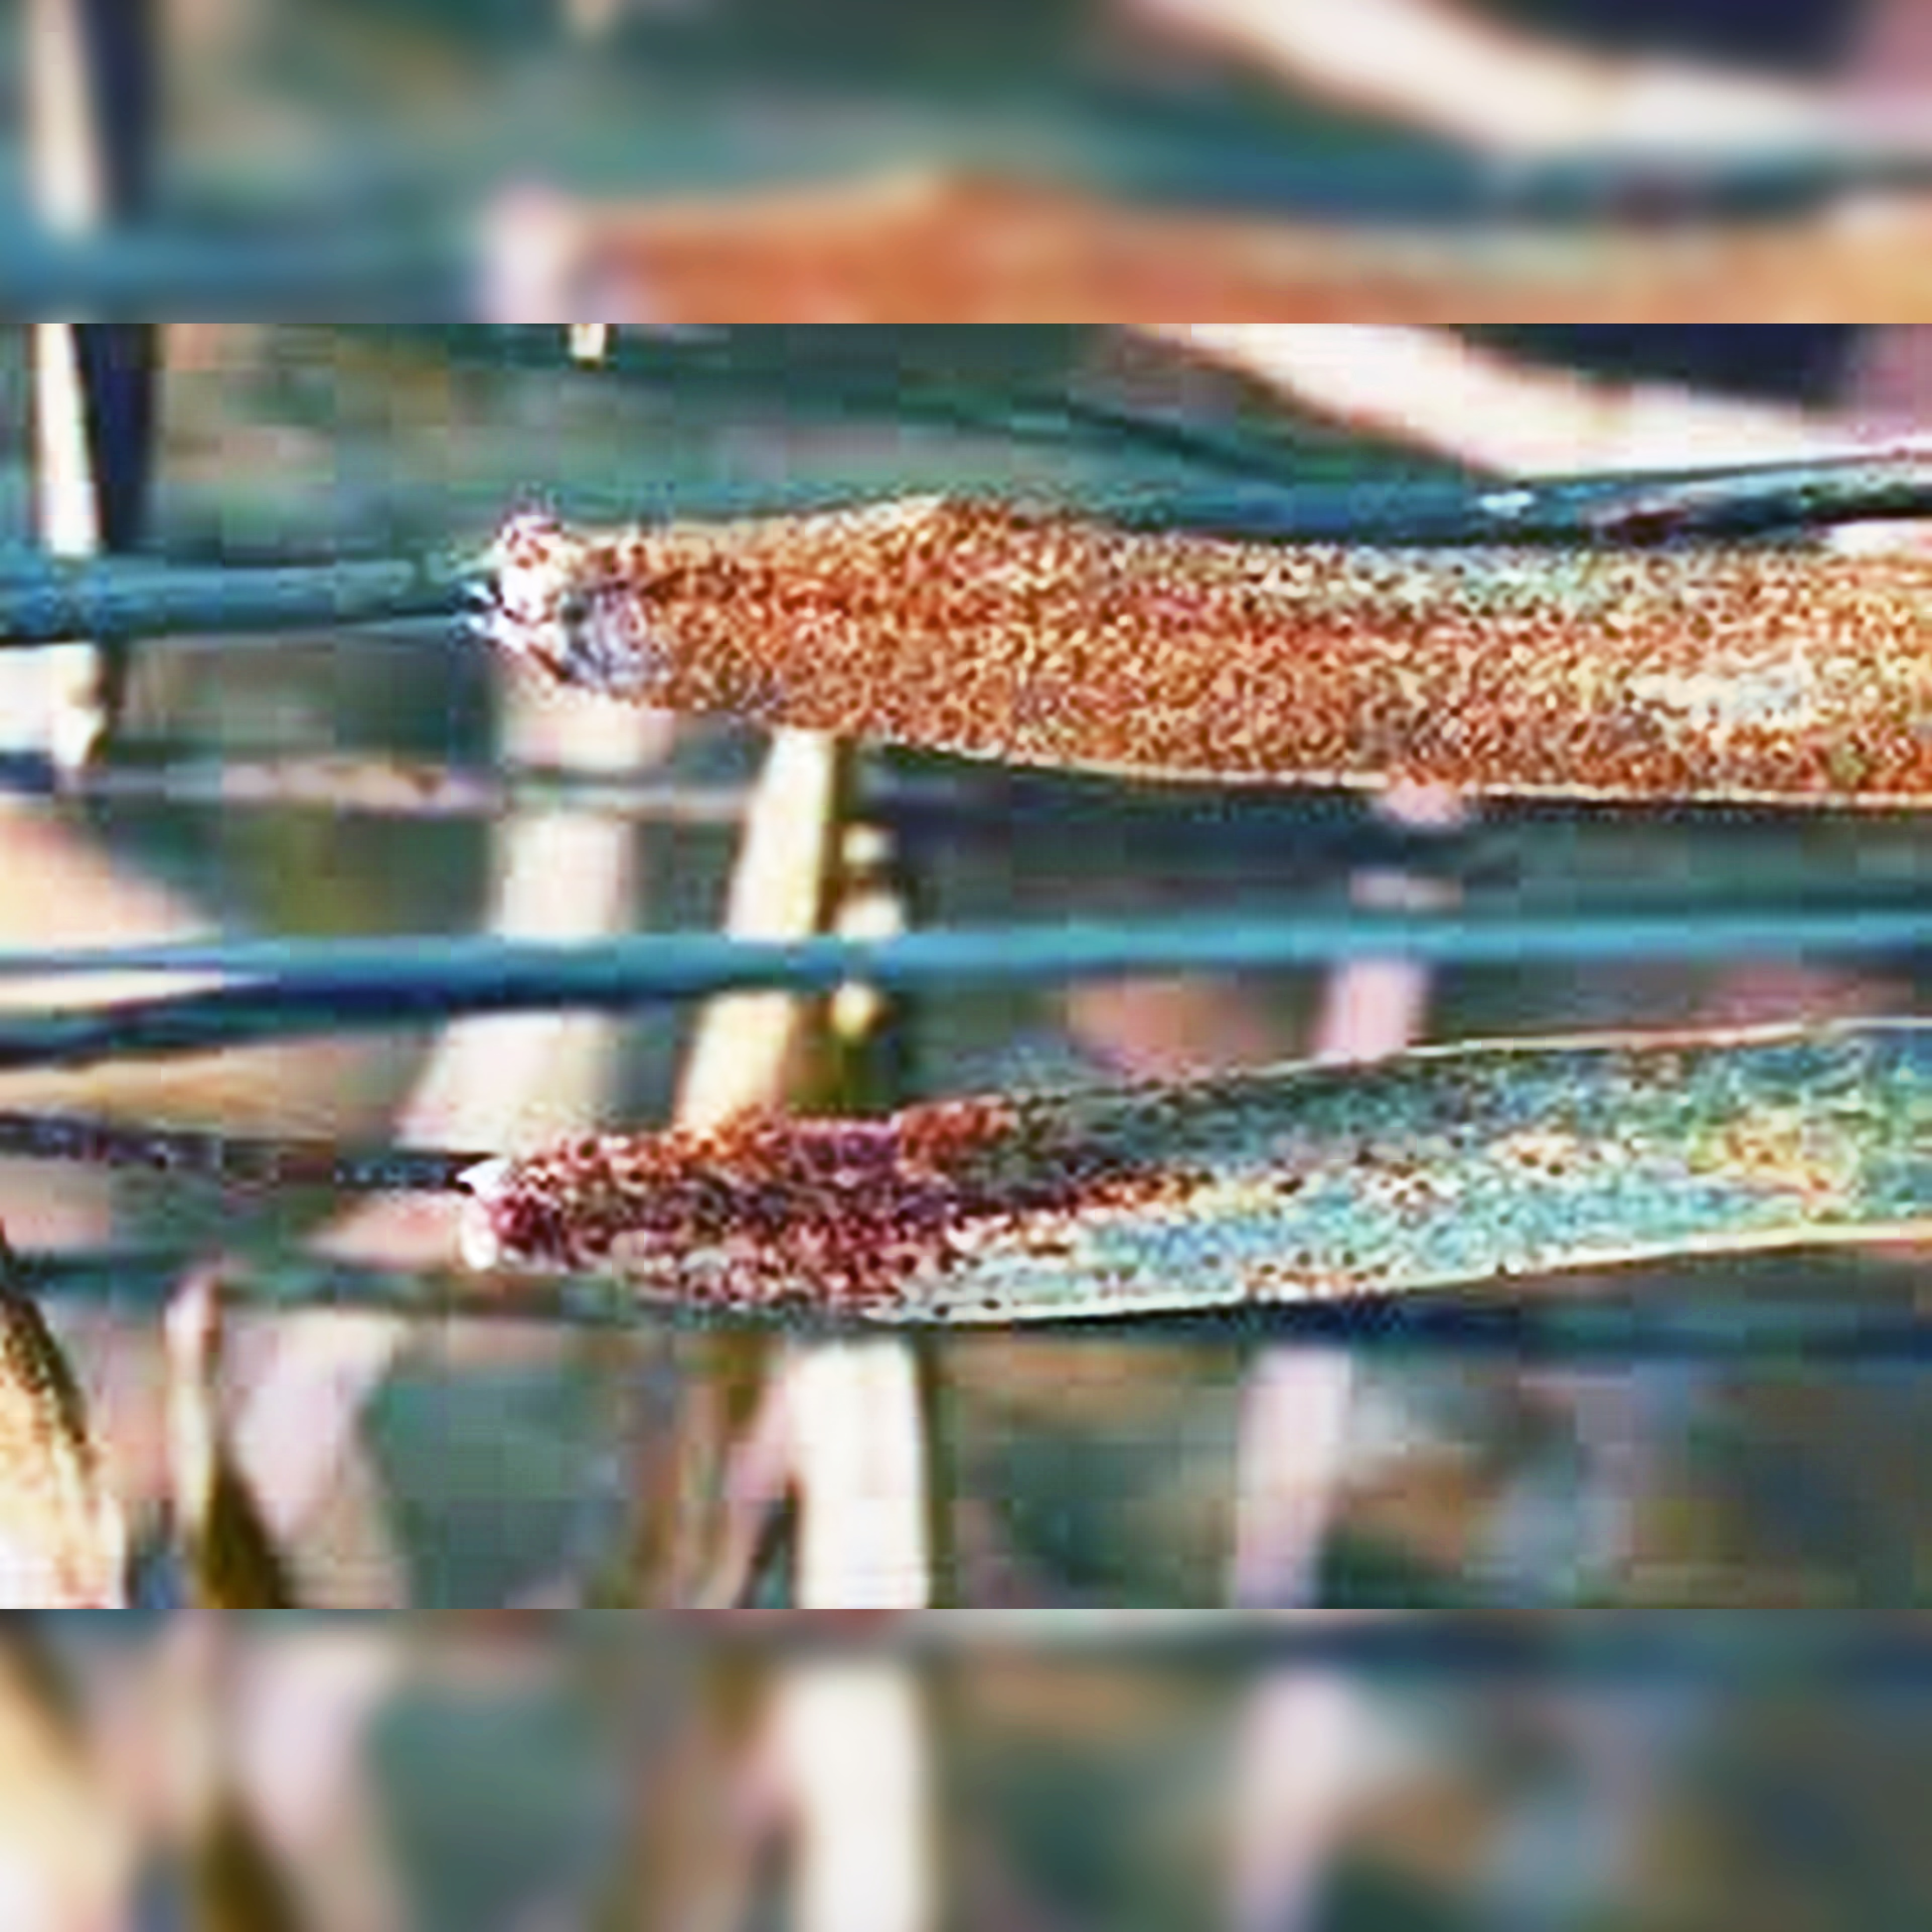Leaf Rust: (609, 492, 1932, 833), (465, 1069, 1537, 1366)
